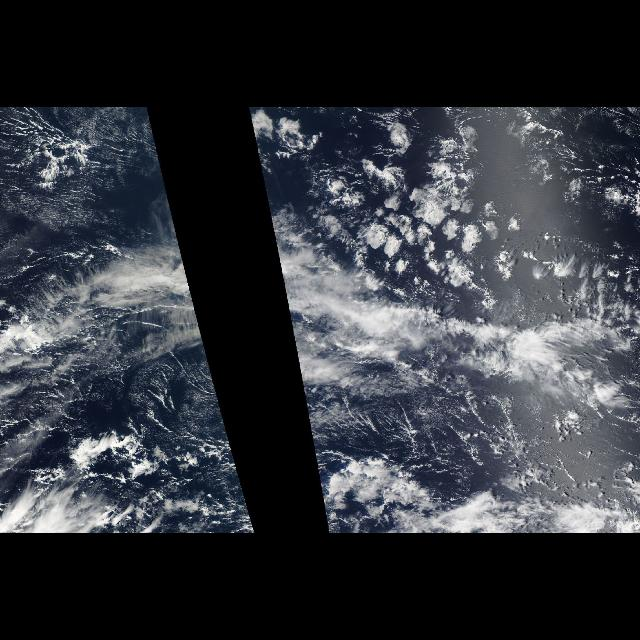Fish: (271, 226, 631, 457), (74, 226, 234, 457)
Flower: (249, 110, 539, 304)
